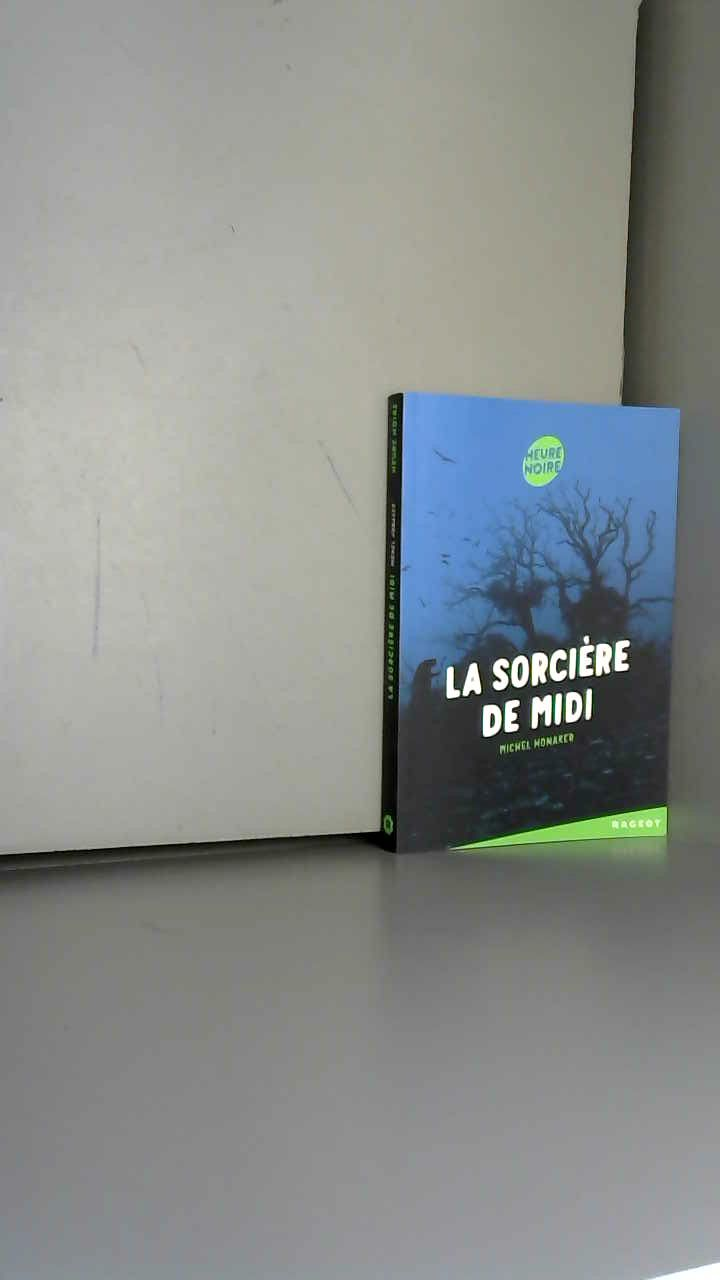book: (350, 370, 716, 911)
